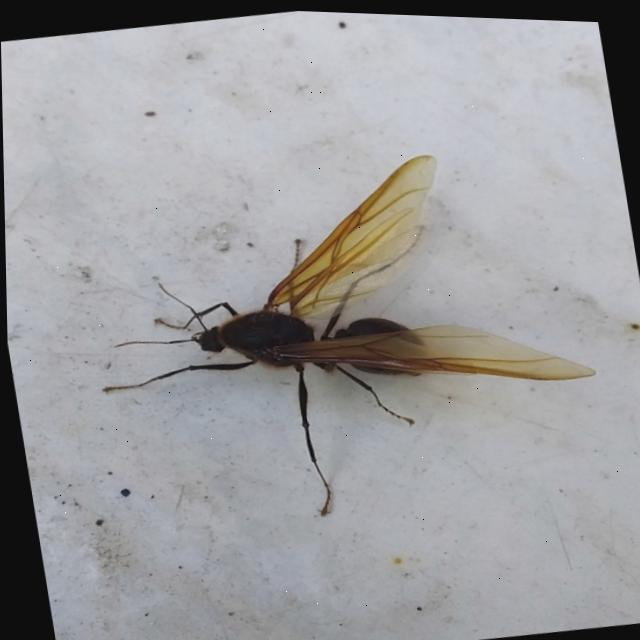Alive-Male-Alate: (67, 122, 614, 552)
